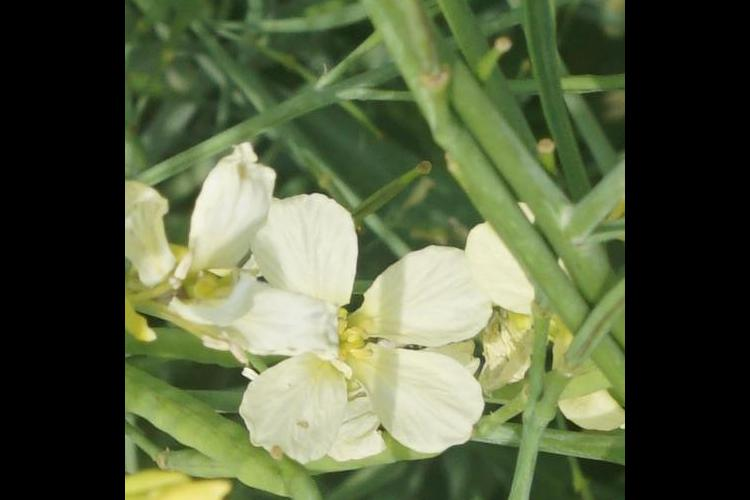pod: (347, 1, 445, 122), (552, 256, 625, 411), (340, 145, 443, 219), (513, 115, 563, 222), (269, 448, 353, 500)
white: (241, 205, 477, 450), (150, 149, 325, 370)
yellow: (145, 431, 255, 500)
